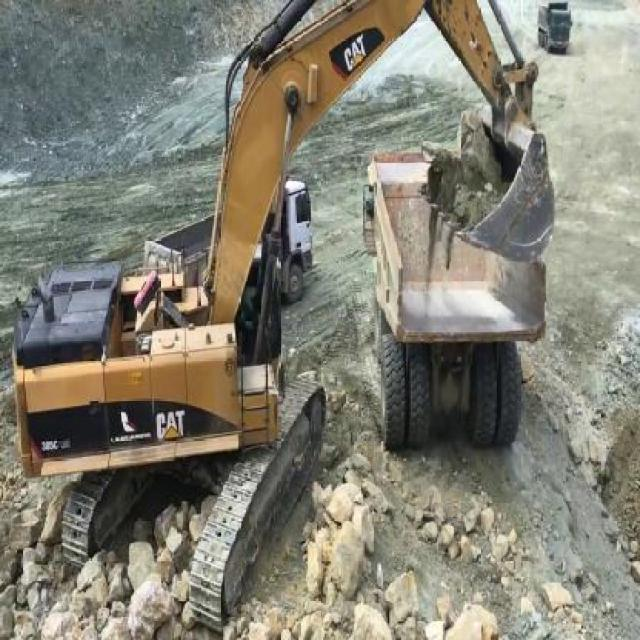Dump Truck: (362, 152, 548, 459), (140, 175, 314, 312)
Excavator: (9, 0, 558, 638)
